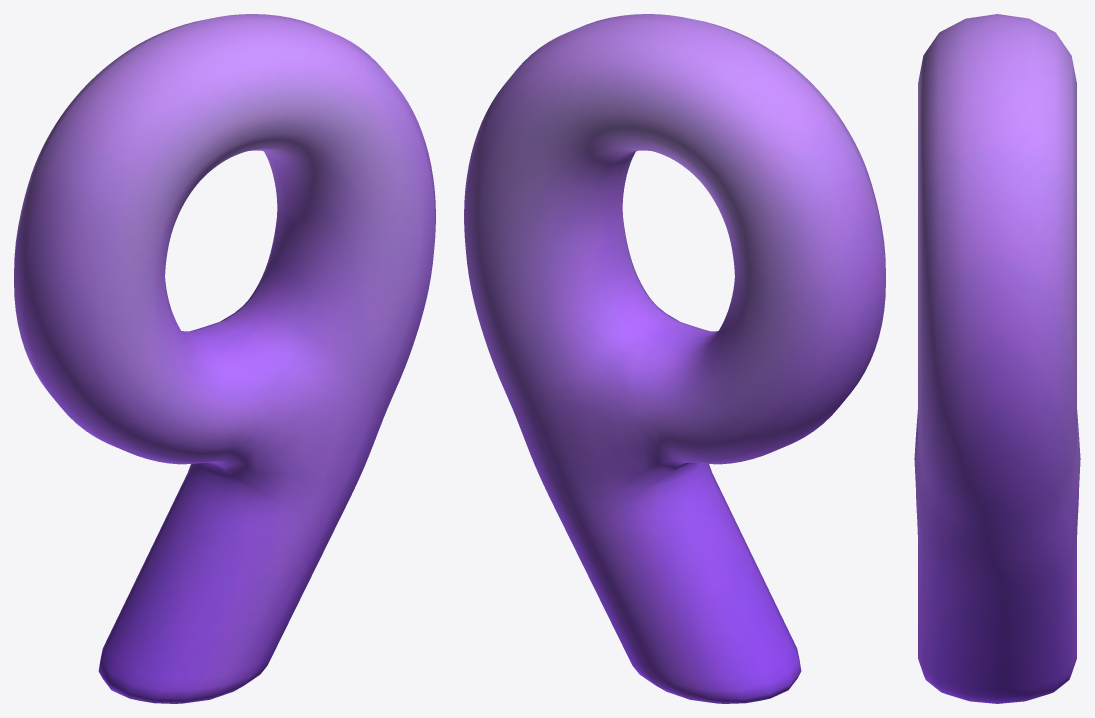
The picture shows the model from 3 angles, left to right: view 1: azimuth 30°, elevation 25°; view 2: azimuth 150°, elevation 25°; view 3: azimuth 270°, elevation 25°; orthographic projection. The views are drawn at different scales.
Visible parts, largest first — view 1: node_id327; view 2: node_id327; view 3: node_id327.
Part boxes in pixels (left/top/right/bottom): node_id327: left=14, top=14, right=435, bottom=703; node_id327: left=464, top=14, right=885, bottom=703; node_id327: left=914, top=14, right=1080, bottom=703.
Bounding box in the file's own units: 0.3314 × 0.512 × 0.1155.
1 material, 1 textured.
